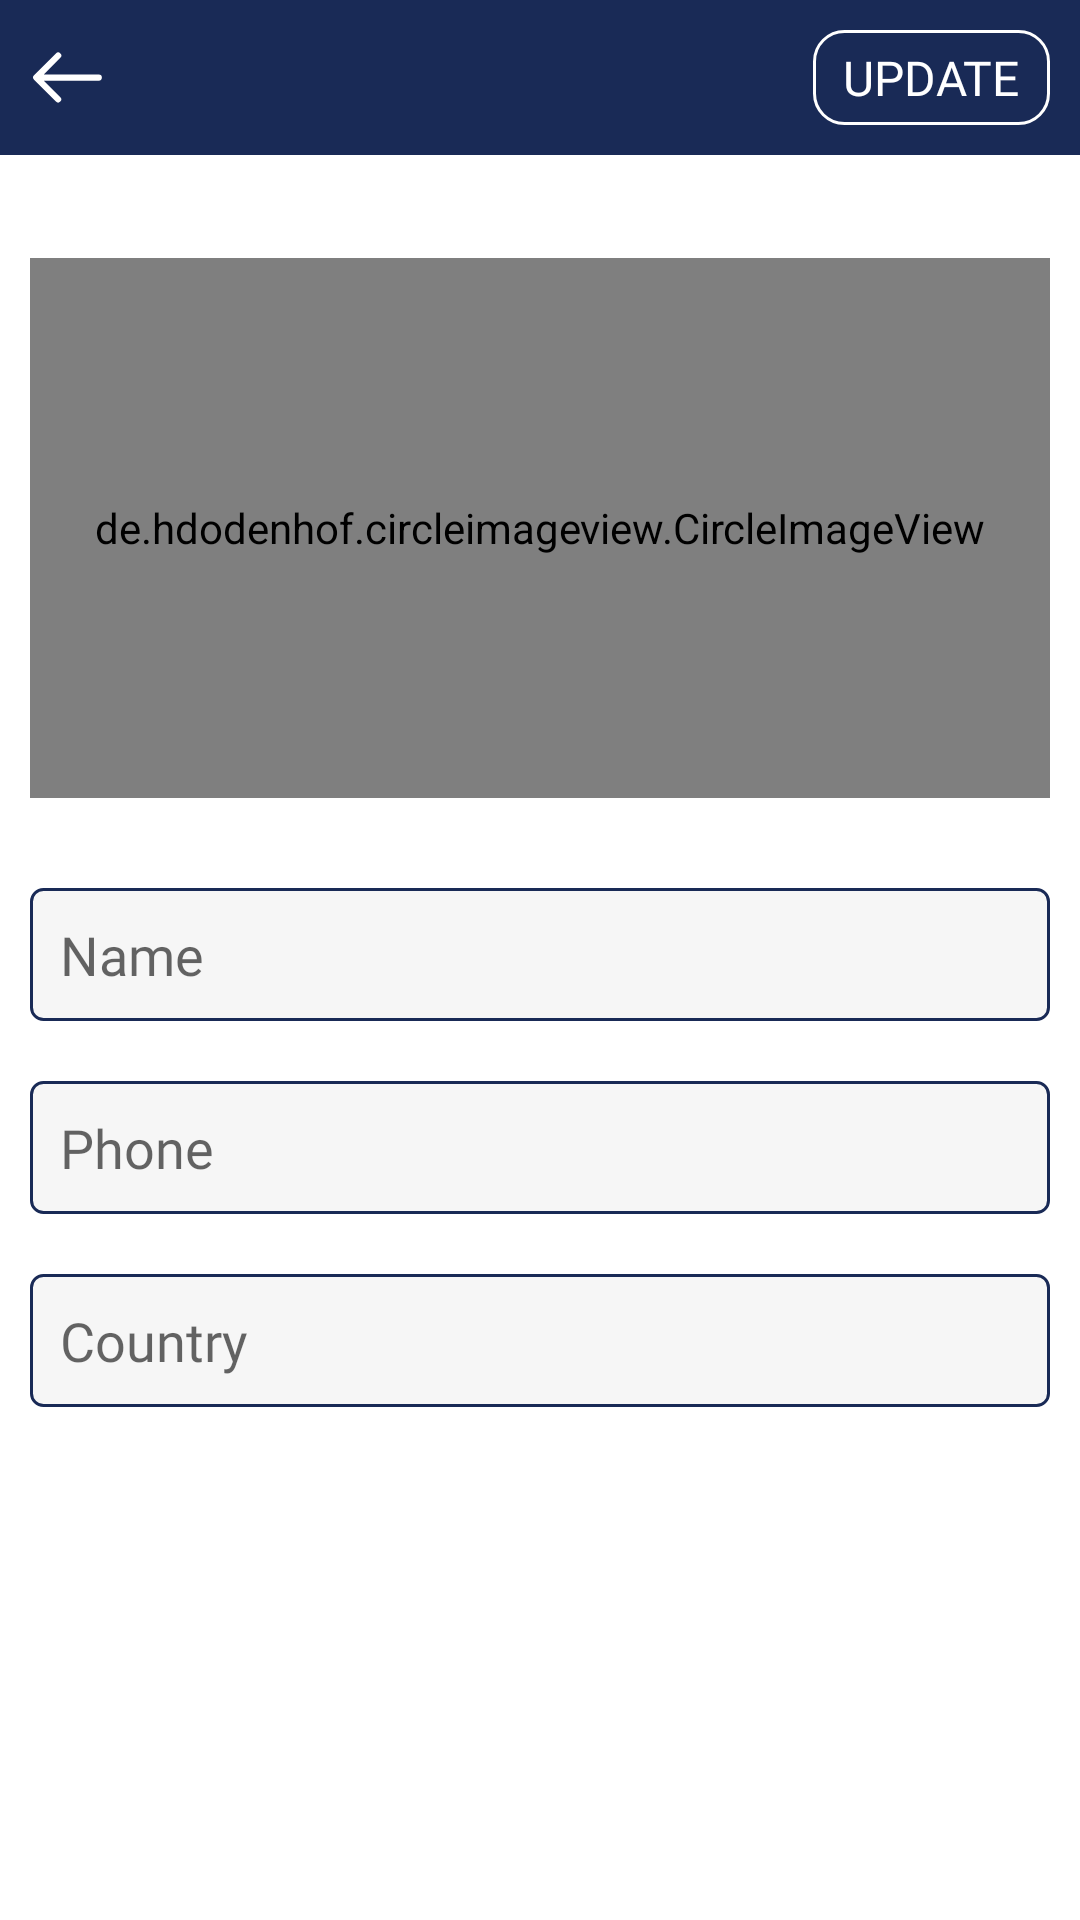

Named icons in this screenshot (1080 x 1920) and their centers, (x=x, y=y):
back: (x=67, y=77)
